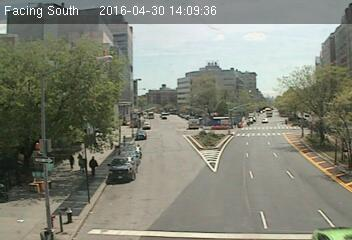neg: (320, 161, 335, 181), (97, 102, 110, 120), (93, 60, 106, 78), (5, 90, 18, 107), (204, 127, 215, 141), (198, 157, 209, 171), (290, 93, 300, 107)
pos: (73, 150, 92, 174), (84, 156, 102, 181), (64, 153, 79, 173)
